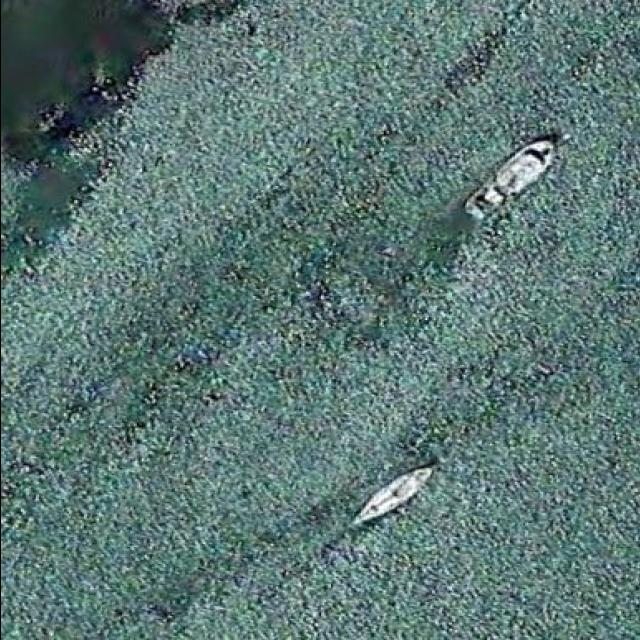ship: (459, 138, 559, 220), (350, 461, 440, 529)
